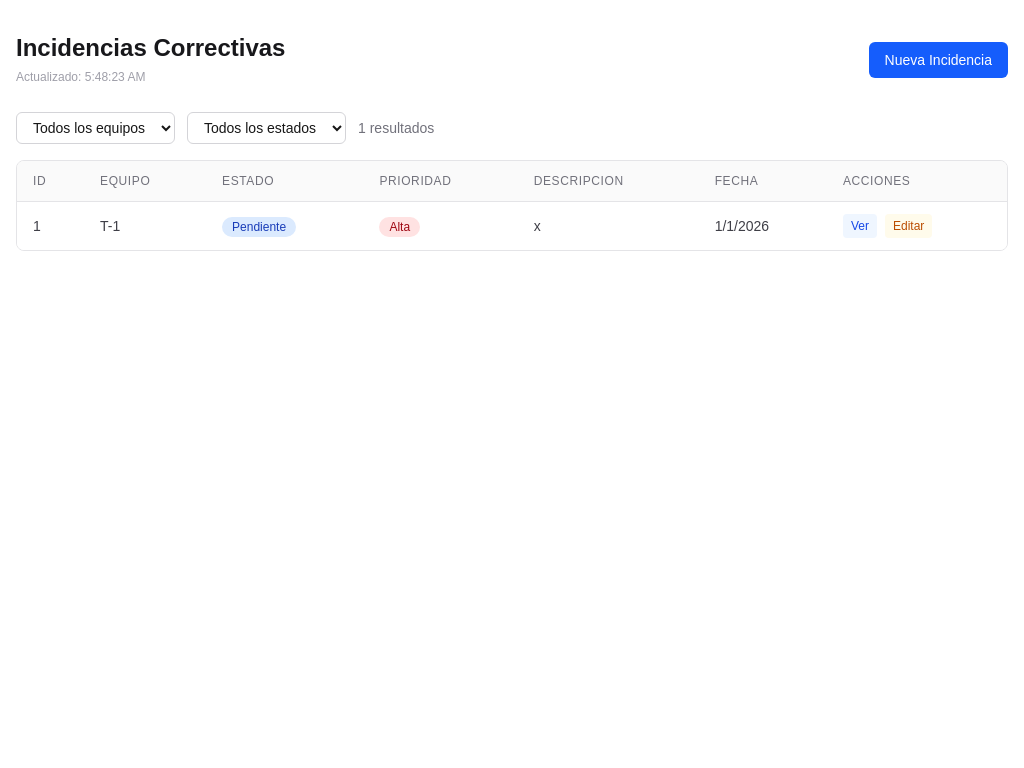
IncidenciasPage › toggles the create form
Click the button "Nueva Incidencia": (938, 60) [869,42,1008,78]
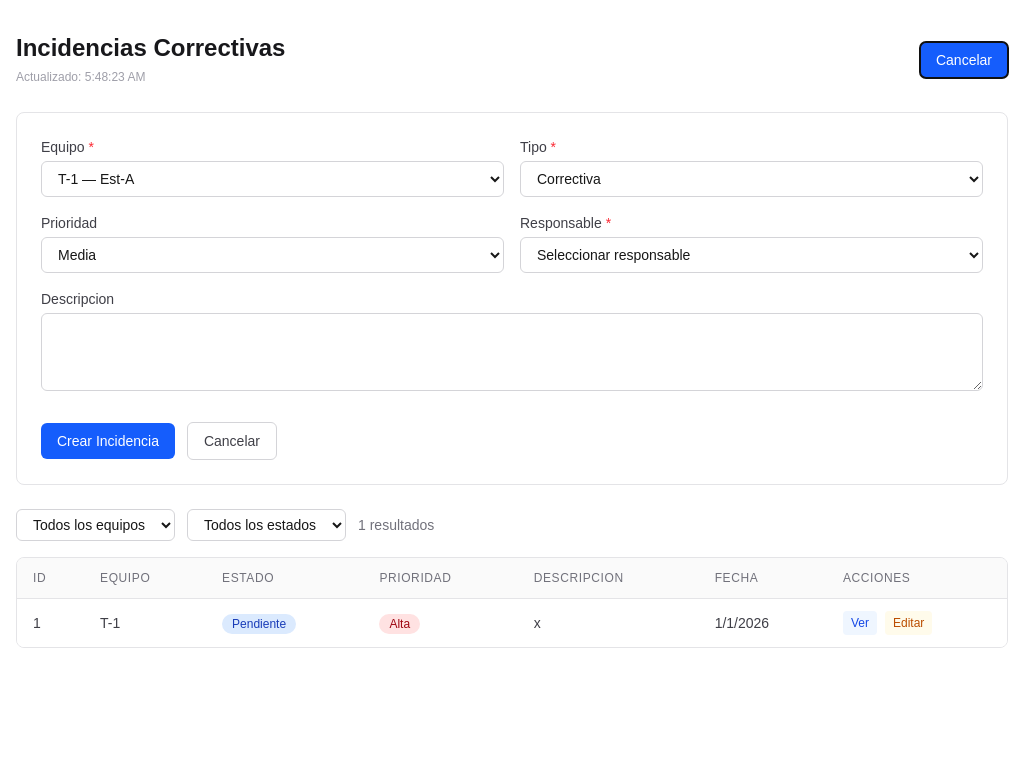
Check: the button "Crear Incidencia" is shown, box [41,423,175,459]
